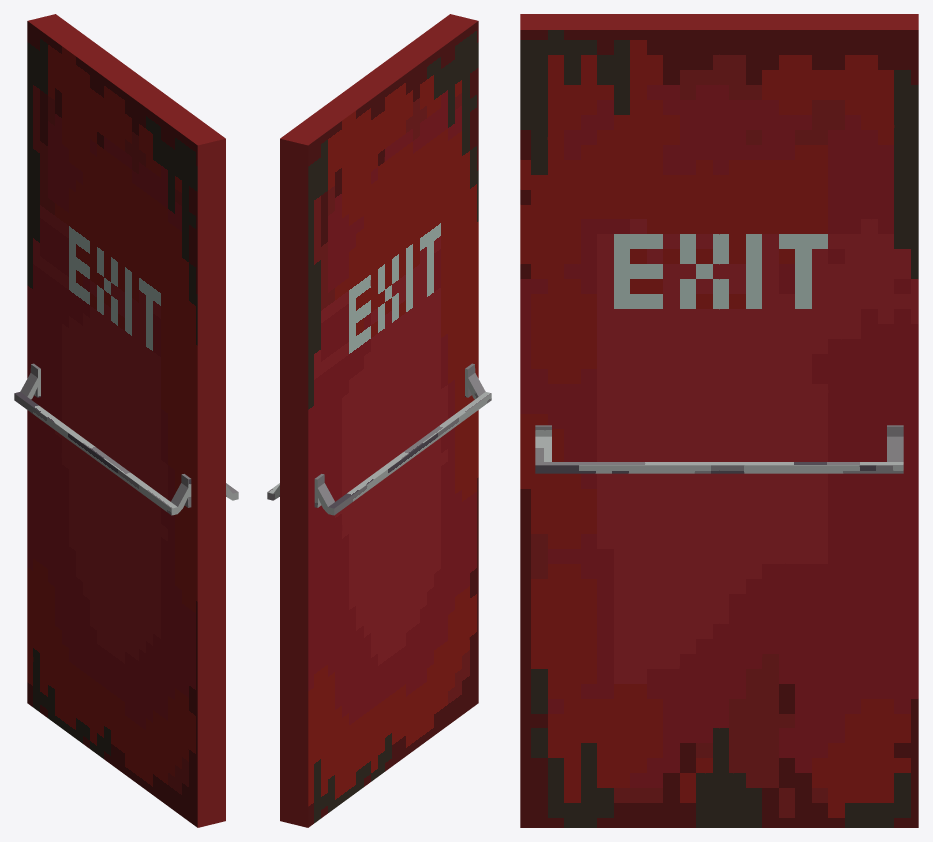
Rendered from DoorExit_3D.fbx.
The picture shows the model from 3 angles, left to right: view 1: azimuth 30°, elevation 25°; view 2: azimuth 150°, elevation 25°; view 3: azimuth 270°, elevation 25°; orthographic projection. The views are drawn at different scales.
Parts seen in each view (by area): view 1: Cube.002; view 2: Cube.002; view 3: Cube.002.
Boxes of the visible parts, bbox=[...] form: Cube.002: bbox=[14, 14, 238, 827]; Cube.002: bbox=[267, 14, 491, 827]; Cube.002: bbox=[520, 14, 918, 827].
Size of the model in its own units: 500 by 4864 by 2200.
1 material, 1 textured.
